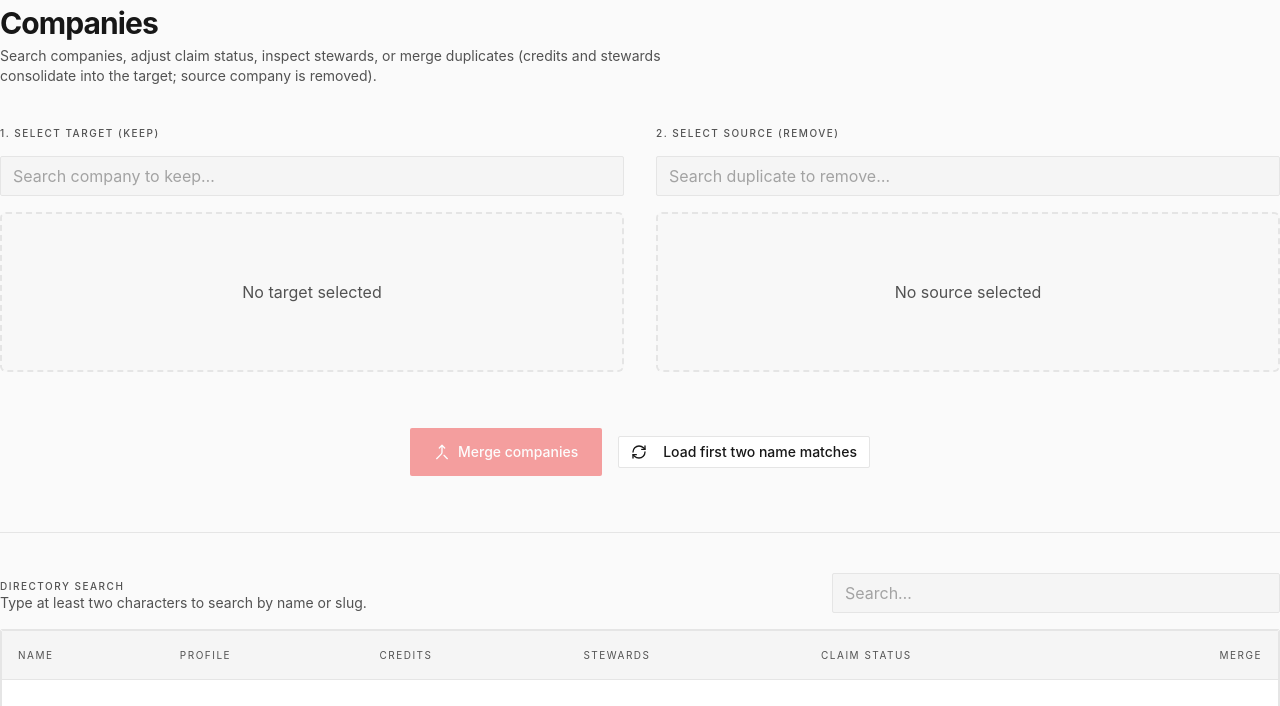
AdminCompanies (QA 8.2) › directory search lists companies; expanding stewards loads getCompanyStewardsWithProfiles
Type "ac" into the field named "Search companies directory" at (1056, 593), box [832,573,1279,613]
Wait 450 ms
(page scrolled)
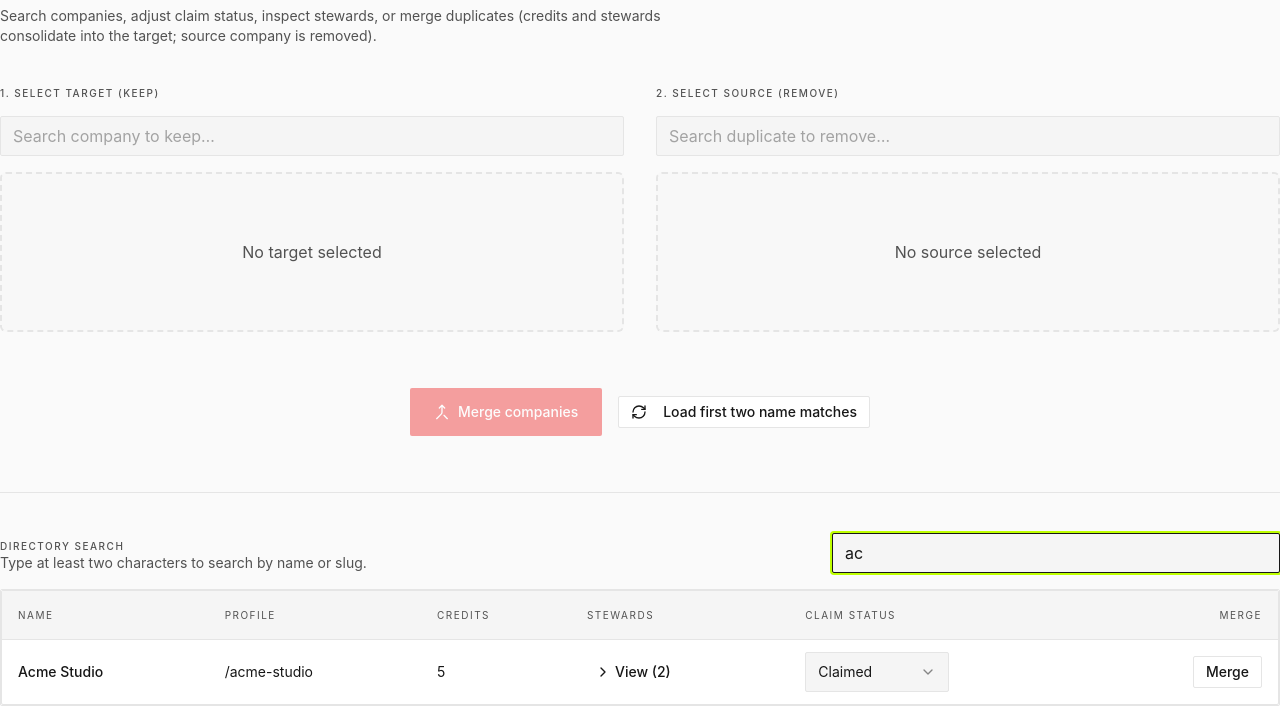
Expected: the text "Acme Studio" is shown, [2,639,209,704]
Click the button "View (2)" at (633, 672), box [587,656,679,688]
(page scrolled)
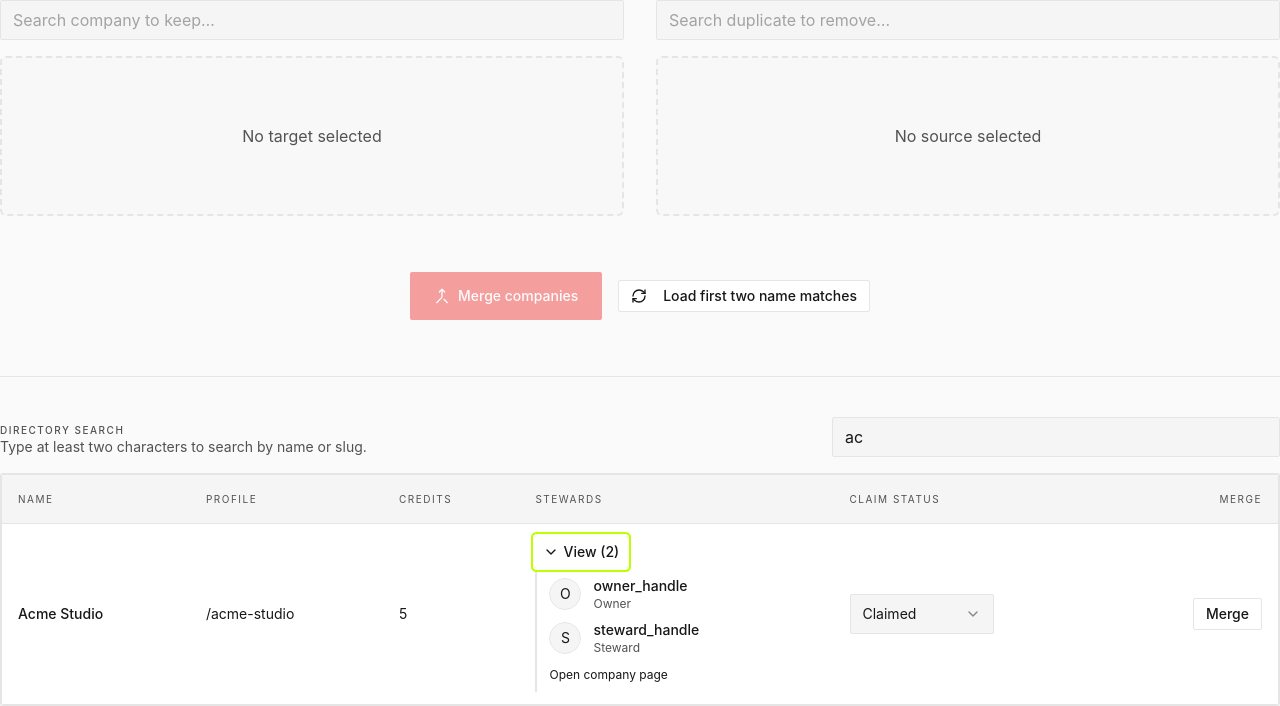
Expected: the text "owner_handle" is shown, [594,576,688,594]
Expected: the text "steward_handle" is shown, [594,620,699,638]
